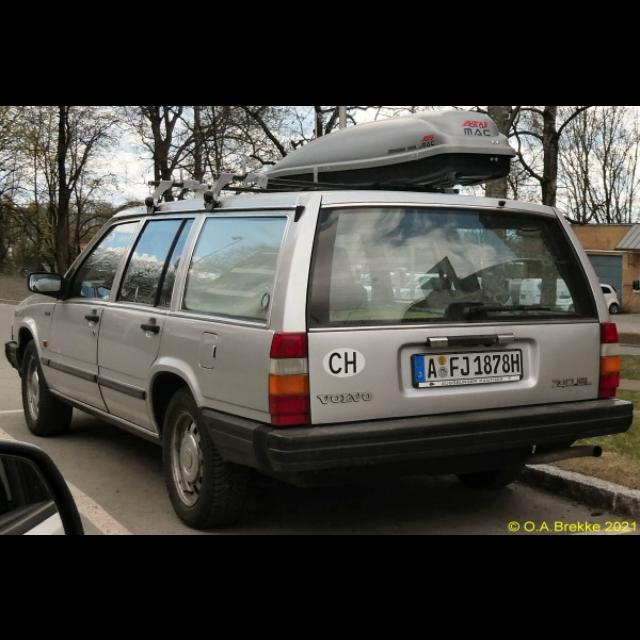d_license_plate: (410, 349, 522, 378)
